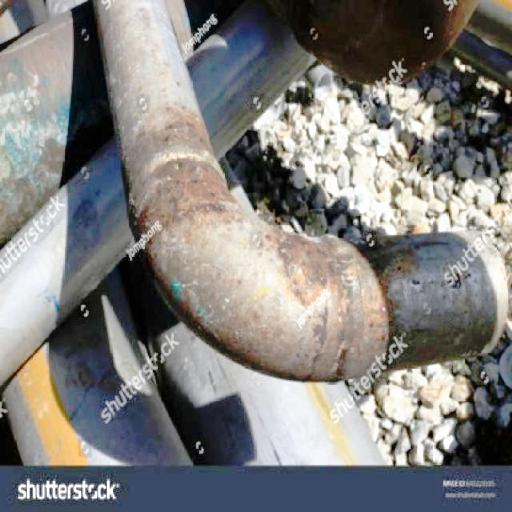corrosion: (138, 154, 228, 230), (273, 230, 336, 300)
